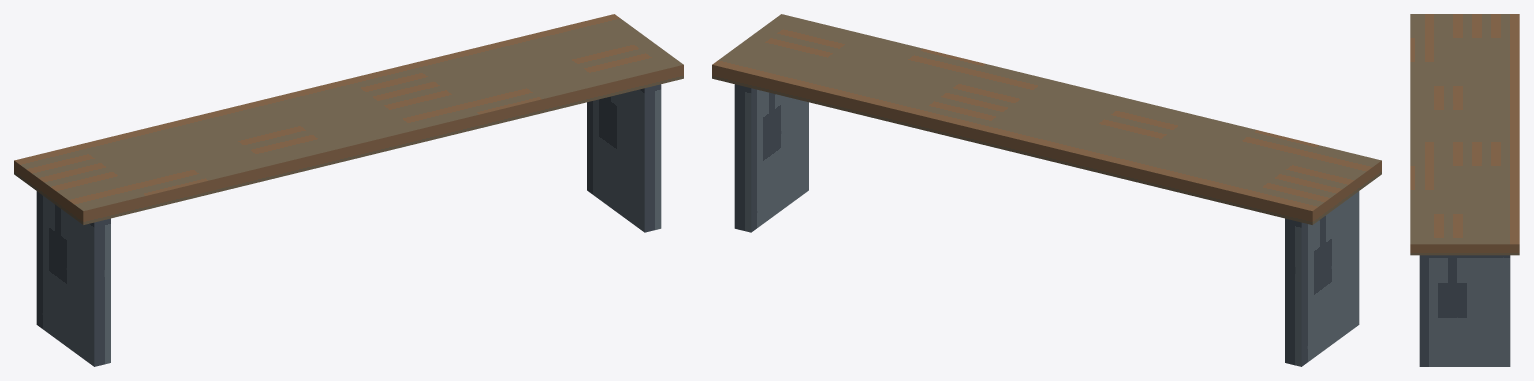
File: bench.glb
The picture shows the model from 3 angles, left to right: view 1: azimuth 30°, elevation 25°; view 2: azimuth 150°, elevation 25°; view 3: azimuth 270°, elevation 25°; orthographic projection. The views are drawn at different scales.
Visible parts, largest first — view 1: bench mesh; view 2: bench mesh; view 3: bench mesh.
Part boxes in pixels (x1=…): bench mesh: x1=14, y1=14, x2=683, y2=366; bench mesh: x1=712, y1=14, x2=1381, y2=366; bench mesh: x1=1410, y1=14, x2=1519, y2=366.
Bounding box in the file's own units: 1.8 × 0.47 × 0.36.
2 materials, 2 textured.
